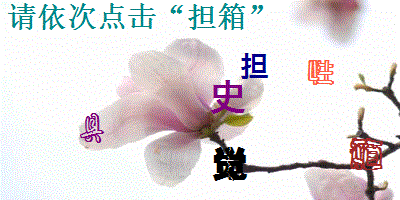result: (185, 2, 247, 31)
text: (211, 144, 249, 183), (347, 135, 385, 171), (210, 79, 246, 115), (306, 55, 337, 88), (239, 50, 270, 81), (80, 112, 106, 145)
